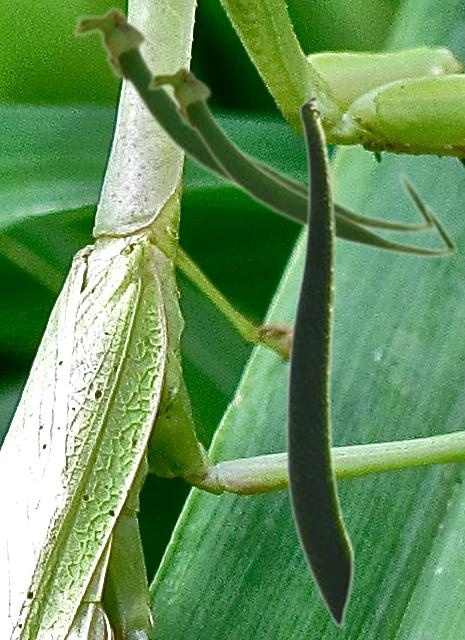french_bean: (70, 3, 434, 236), (145, 62, 459, 259), (284, 93, 355, 628)
